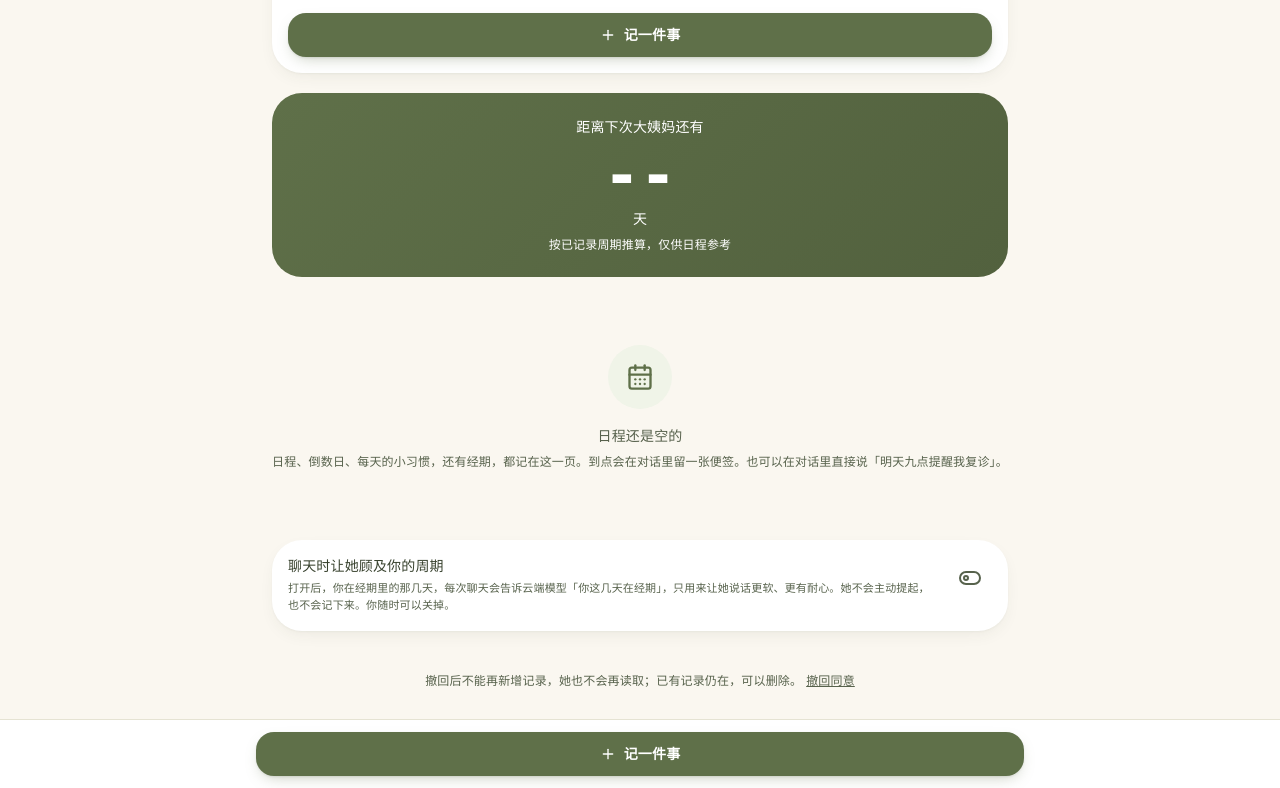
Scenario: 经期同意 › 撤回同意后不再读取，「顾及周期」的开关跟着消失
The image size is (1280, 788).
(page scrolled)
Check: the switch named "聊天时让她顾及你的周期" is shown, box [948,556,992,600]
Click the button "撤回同意" at x=830, y=681, box [806,659,855,703]
(page scrolled)
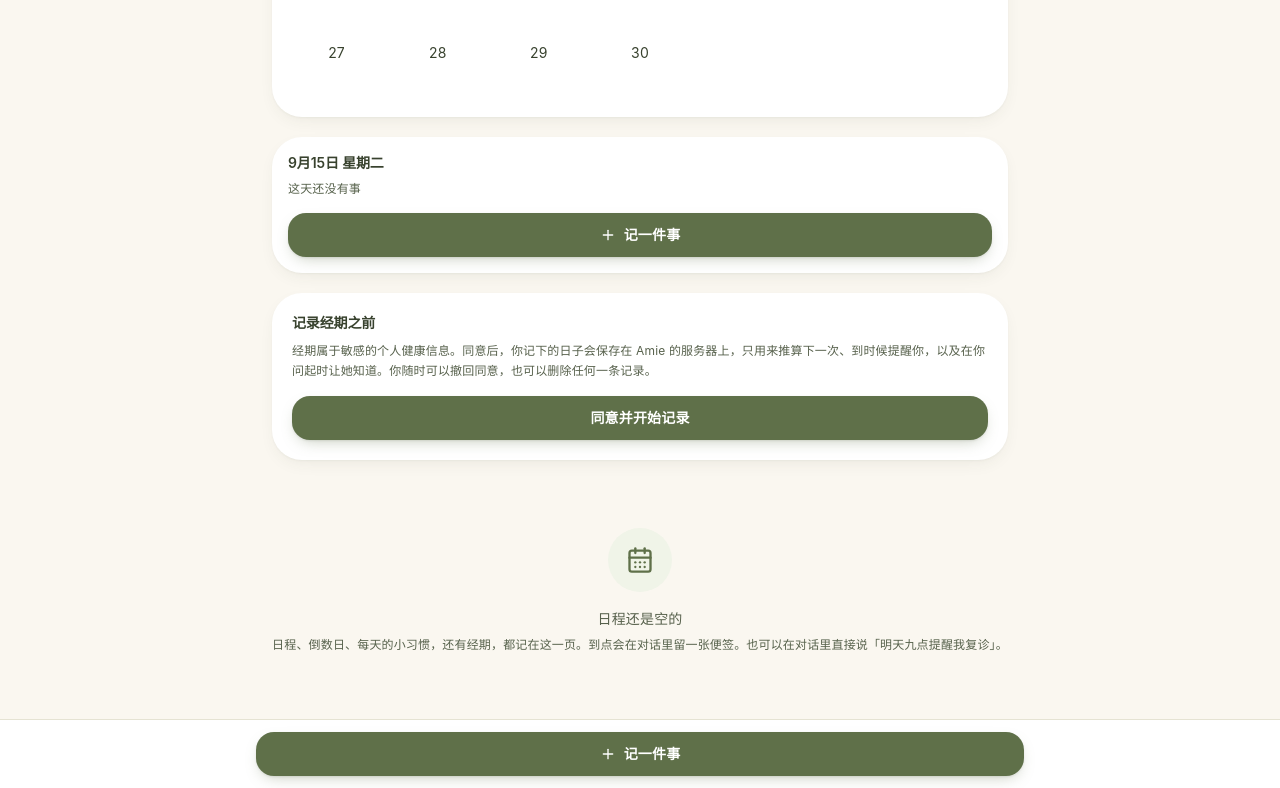
Check: the heading "记录经期之前" is shown, box [292,314,375,331]
Check: the text "聊天时让她顾及你的周期" is gone
